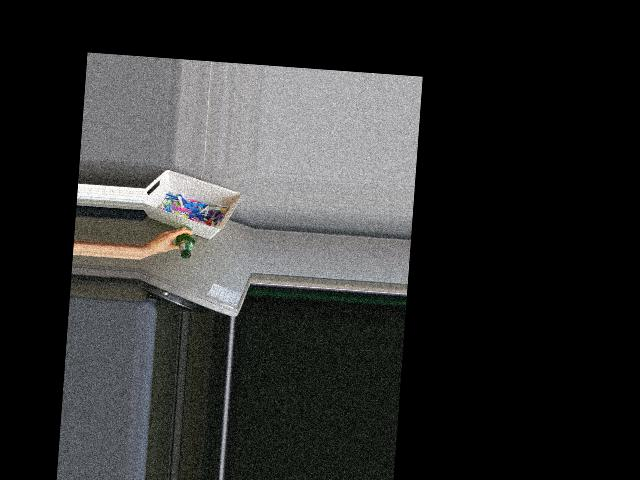beer: (174, 225, 196, 259)
